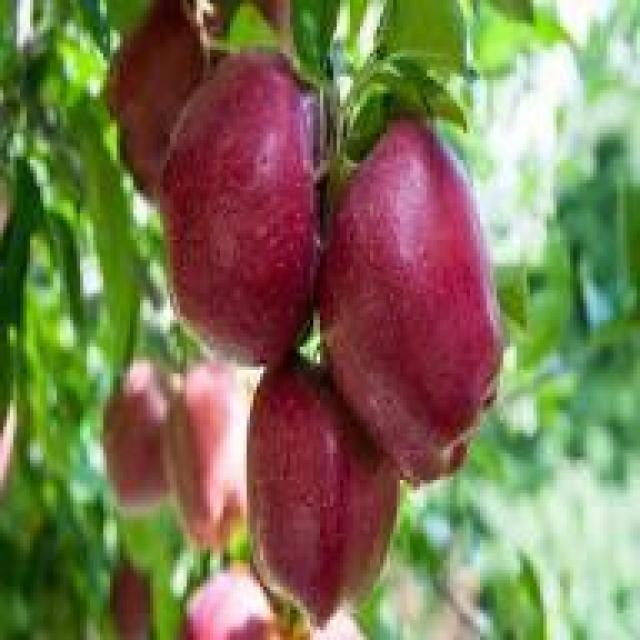apple: (324, 110, 514, 487), (164, 53, 324, 360), (243, 366, 410, 636)
